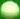white: (0, 0, 20, 19)
